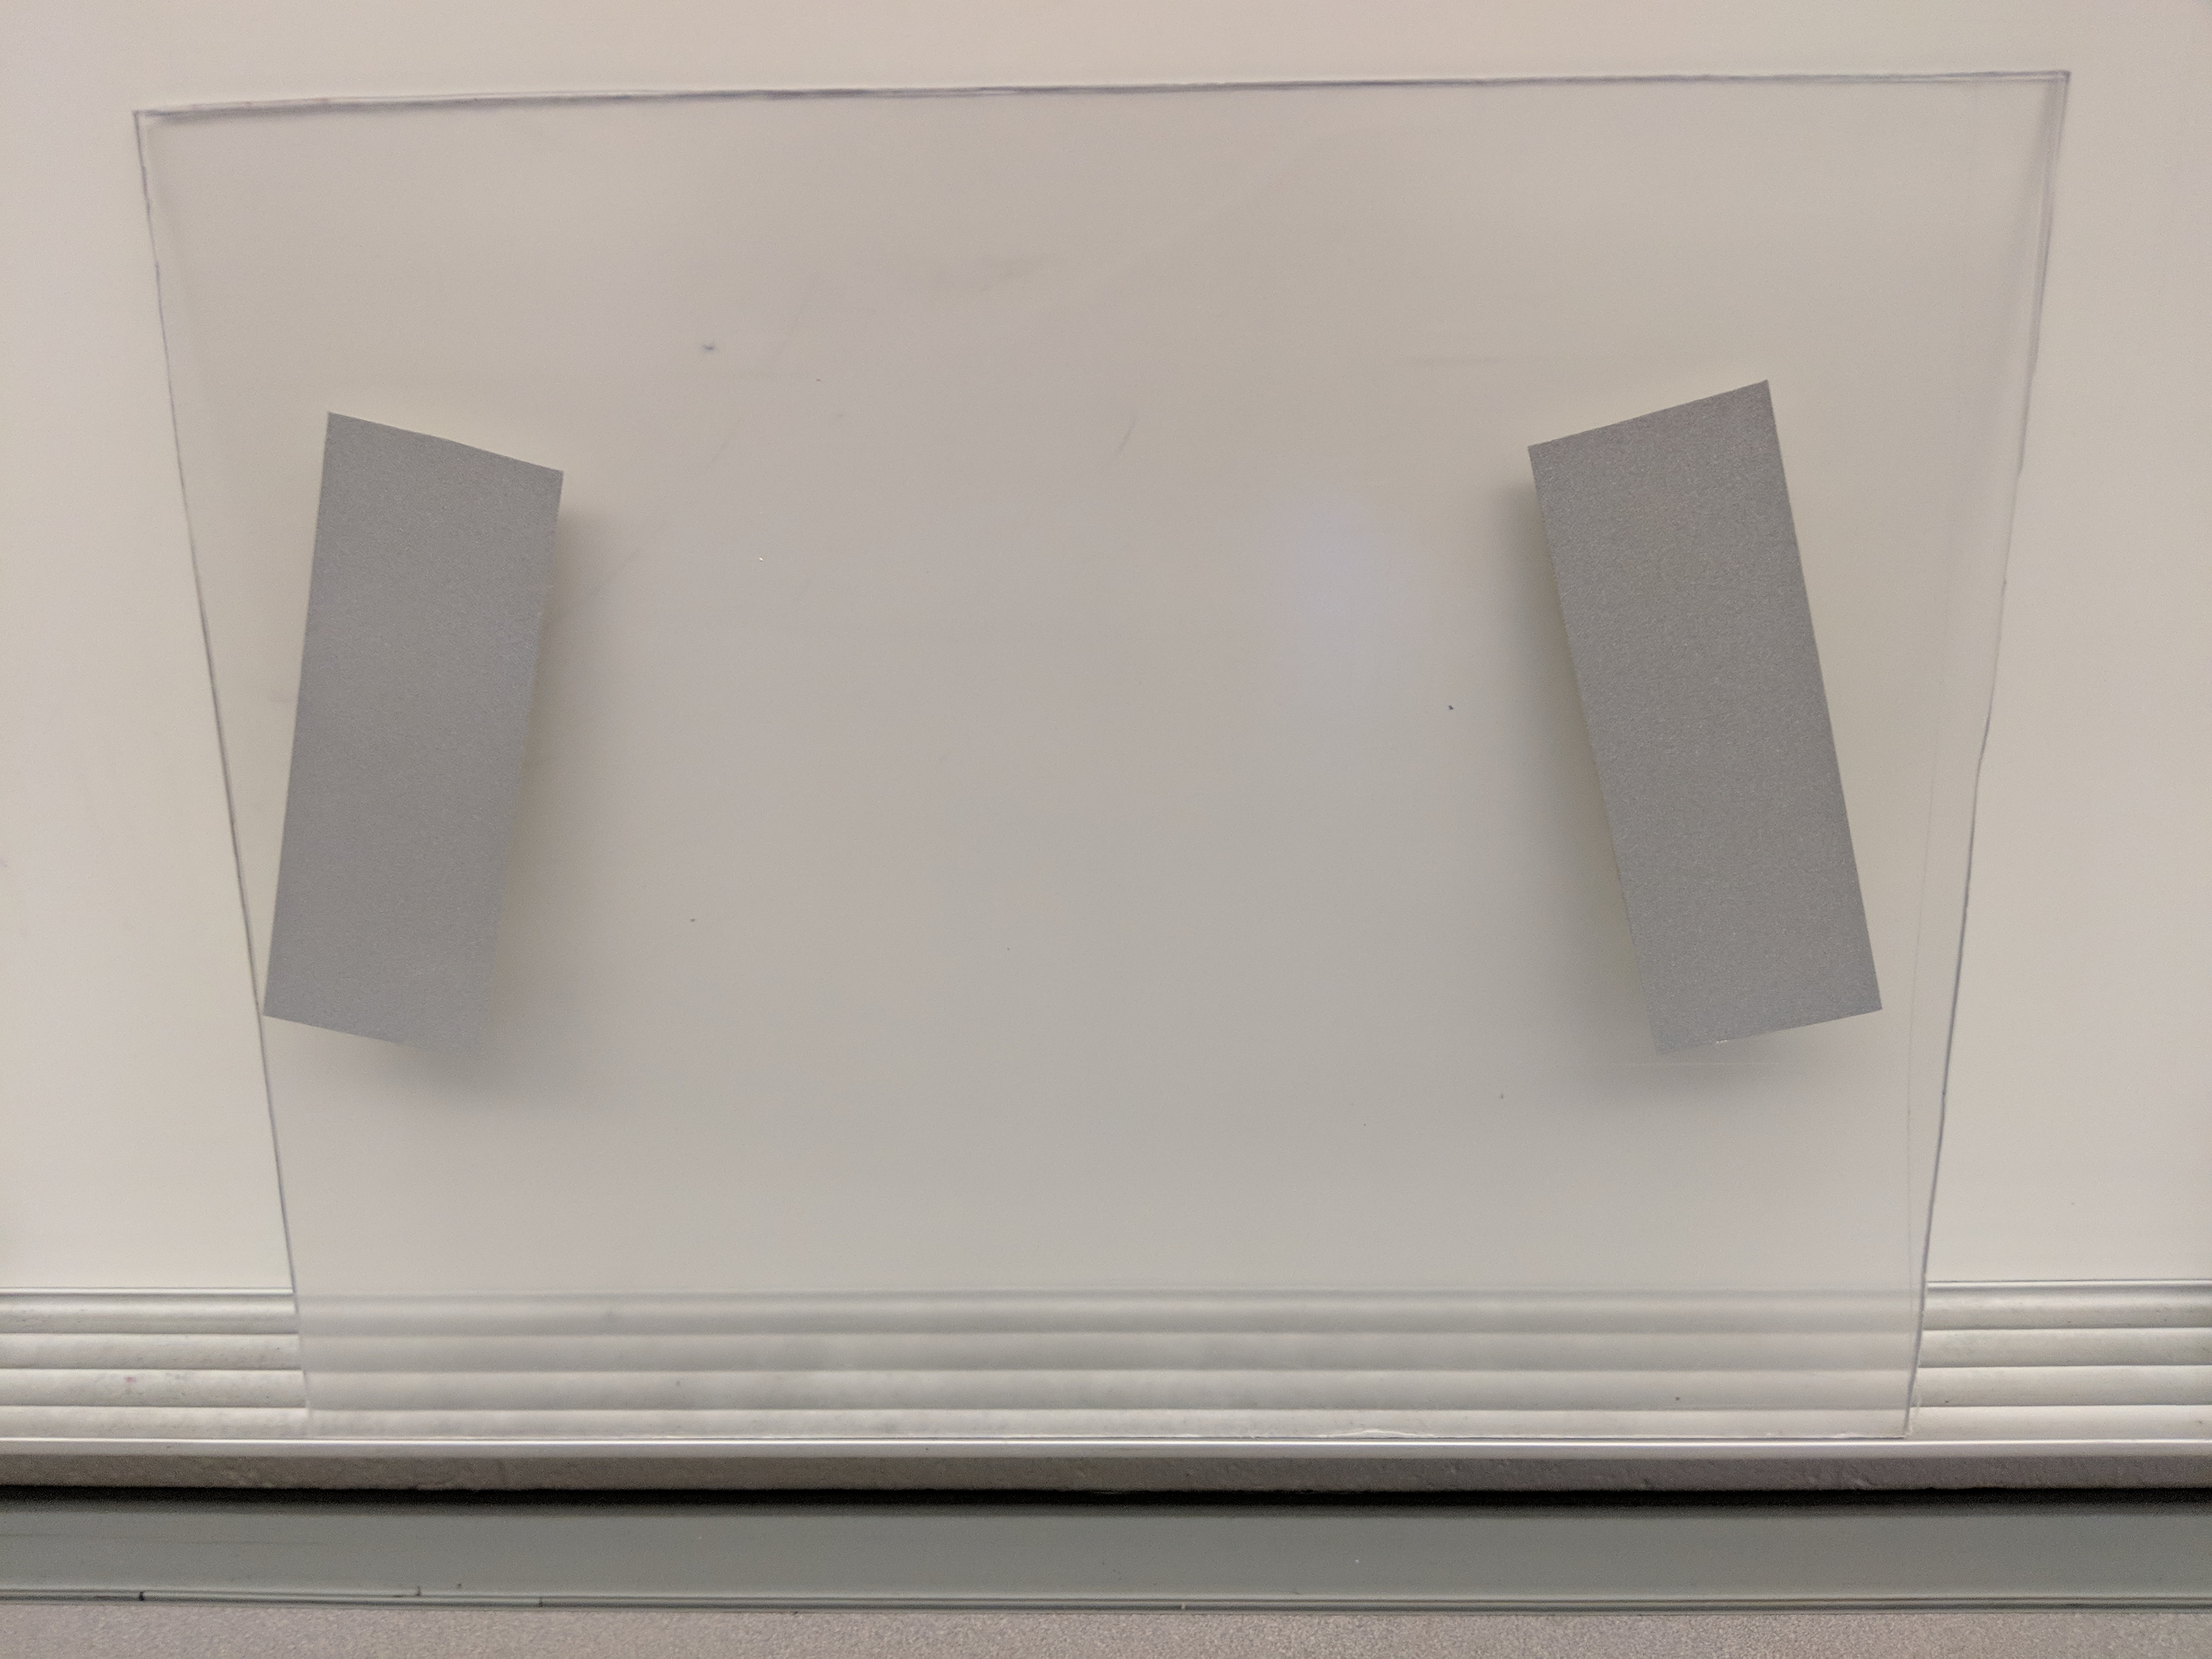vision_target: (251, 373, 1925, 1065)
